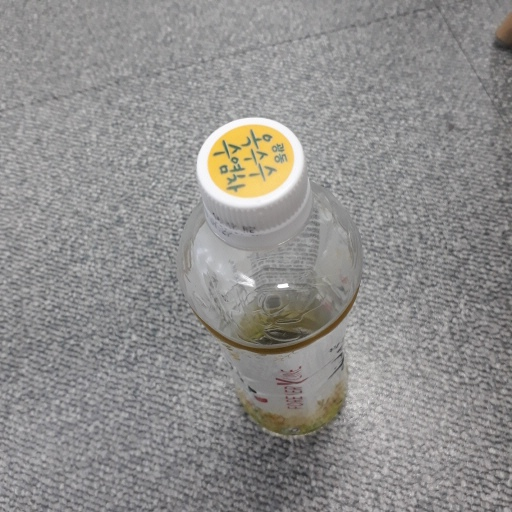Plastic_0: (170, 116, 363, 443)
